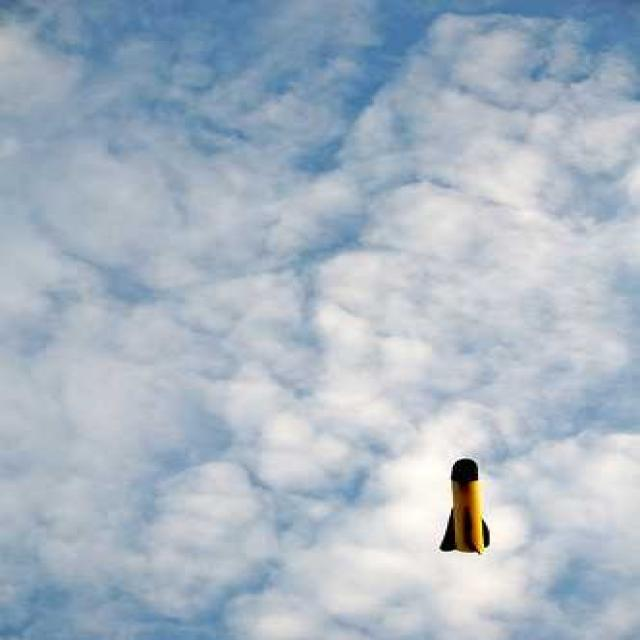missile: (444, 460, 486, 554)
